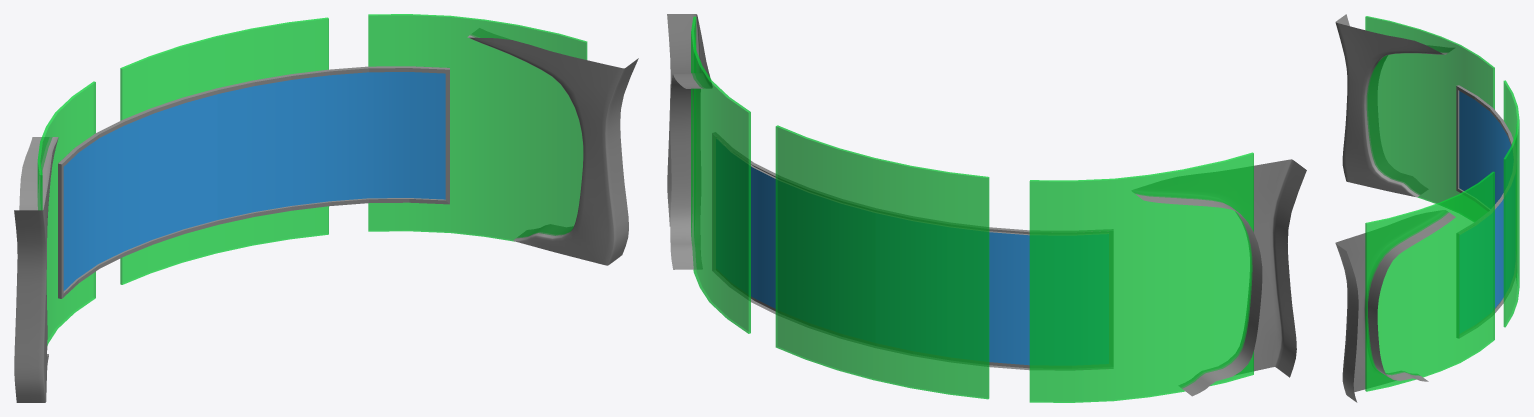
Rendered from boli.FBX.
The picture shows the model from 3 angles, left to right: view 1: azimuth 30°, elevation 25°; view 2: azimuth 150°, elevation 25°; view 3: azimuth 270°, elevation 25°; orthographic projection. The views are drawn at different scales.
Visible parts, largest first — view 1: boli1-1, daping1-1, hu ping1-1, daping1-2, daping1-3; view 2: boli1-1, daping1-2, hu ping1-1, daping1-1, daping1-3; view 3: boli1-1, hu ping1-1, daping1-1, daping1-2, daping1-3.
Boxes of the visible parts, x1,y1,x2,y2 form: boli1-1: (37,14,587,345); daping1-1: (217,72,445,219); hu ping1-1: (14,28,638,402); daping1-2: (63,94,217,290); daping1-3: (58,66,449,298); boli1-1: (691,16,1253,402); daping1-2: (876,213,1108,365); hu ping1-1: (667,14,1306,396); daping1-1: (716,139,875,342); daping1-3: (712,132,1113,370); boli1-1: (1365,16,1519,391); hu ping1-1: (1335,14,1455,402); daping1-1: (1459,175,1515,333); daping1-2: (1459,91,1513,208); daping1-3: (1456,85,1516,338).
Bounding box in the file's own units: 3.07 × 1.01 × 1.01.
